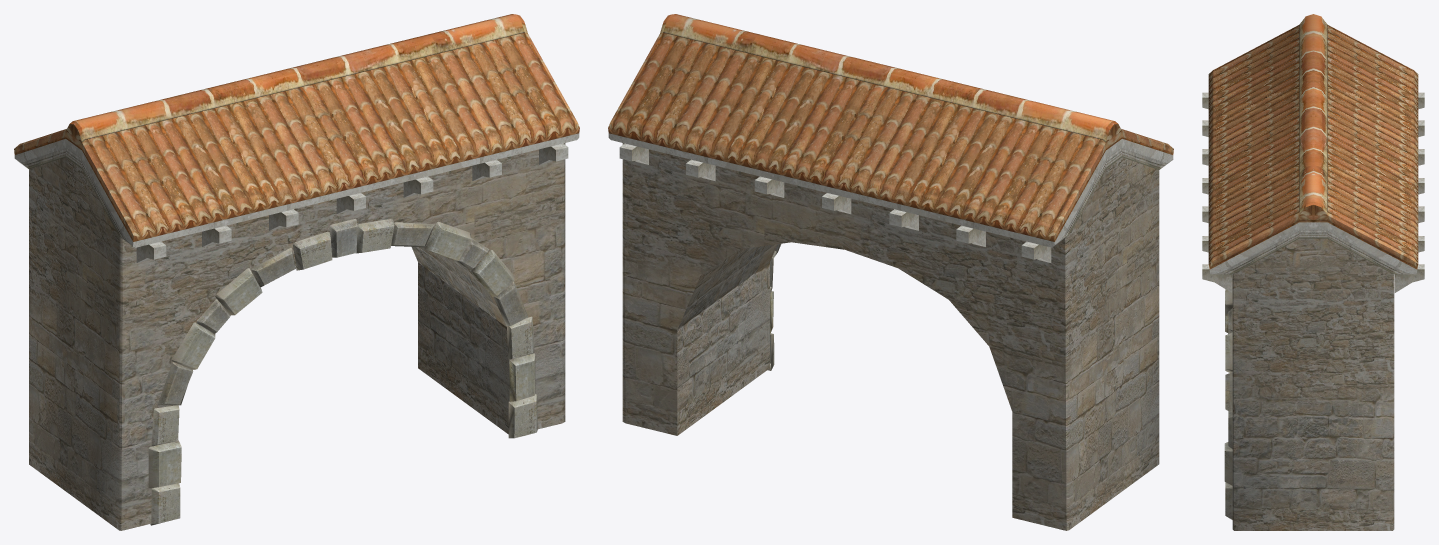
Rendered from bg_atm_aborder_abbeygate01_sm_jjy.FBX.
3 renders of one model, left to right at view 1: azimuth 30°, elevation 25°; view 2: azimuth 150°, elevation 25°; view 3: azimuth 270°, elevation 25°, orthographic. The views are drawn at different scales.
Visible parts, largest first — view 1: bg_atm_aborder_abbeygate01_sm_jjy; view 2: bg_atm_aborder_abbeygate01_sm_jjy; view 3: bg_atm_aborder_abbeygate01_sm_jjy.
Part boxes in pixels (left/top/right/bottom): bg_atm_aborder_abbeygate01_sm_jjy: left=14, top=14, right=579, bottom=530; bg_atm_aborder_abbeygate01_sm_jjy: left=608, top=14, right=1173, bottom=530; bg_atm_aborder_abbeygate01_sm_jjy: left=1202, top=14, right=1424, bottom=530.
Size of the model in its own units: 512 by 414 by 253.
